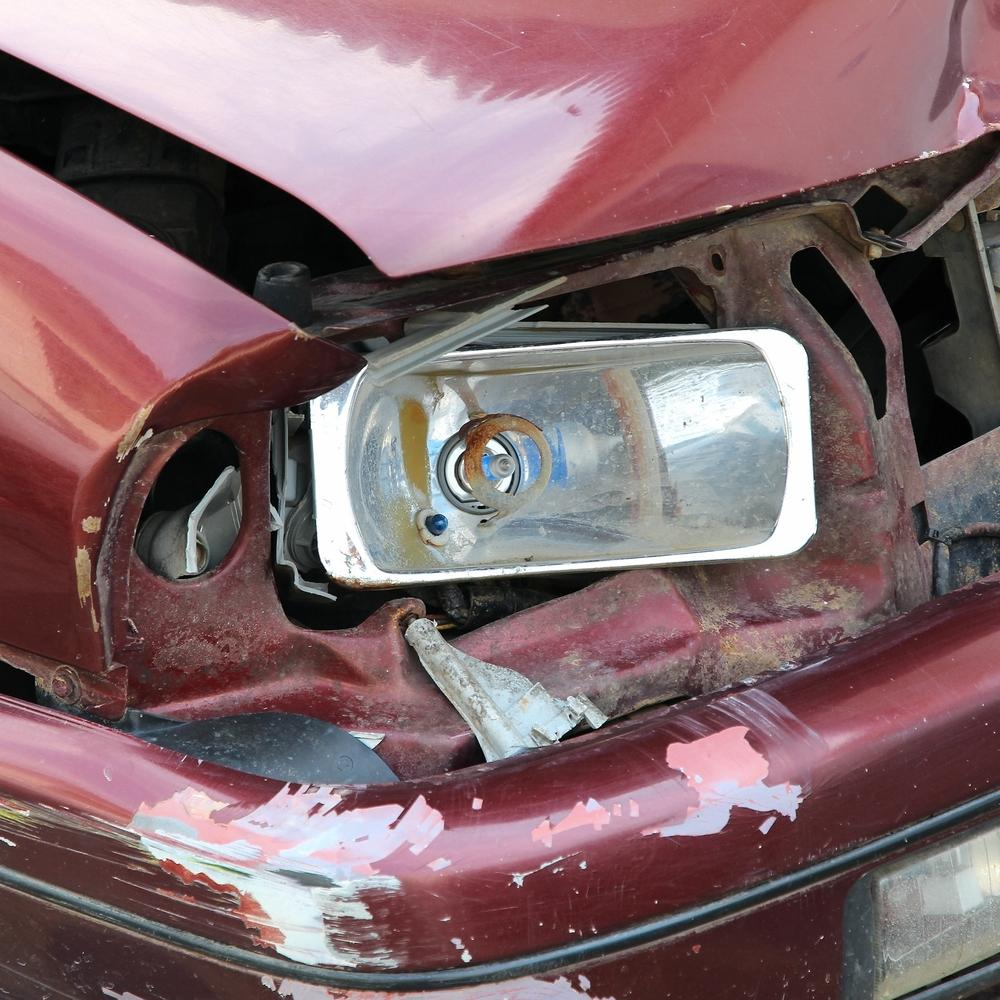lamp broken: (100, 143, 1000, 782)
scratch: (0, 684, 841, 966)
